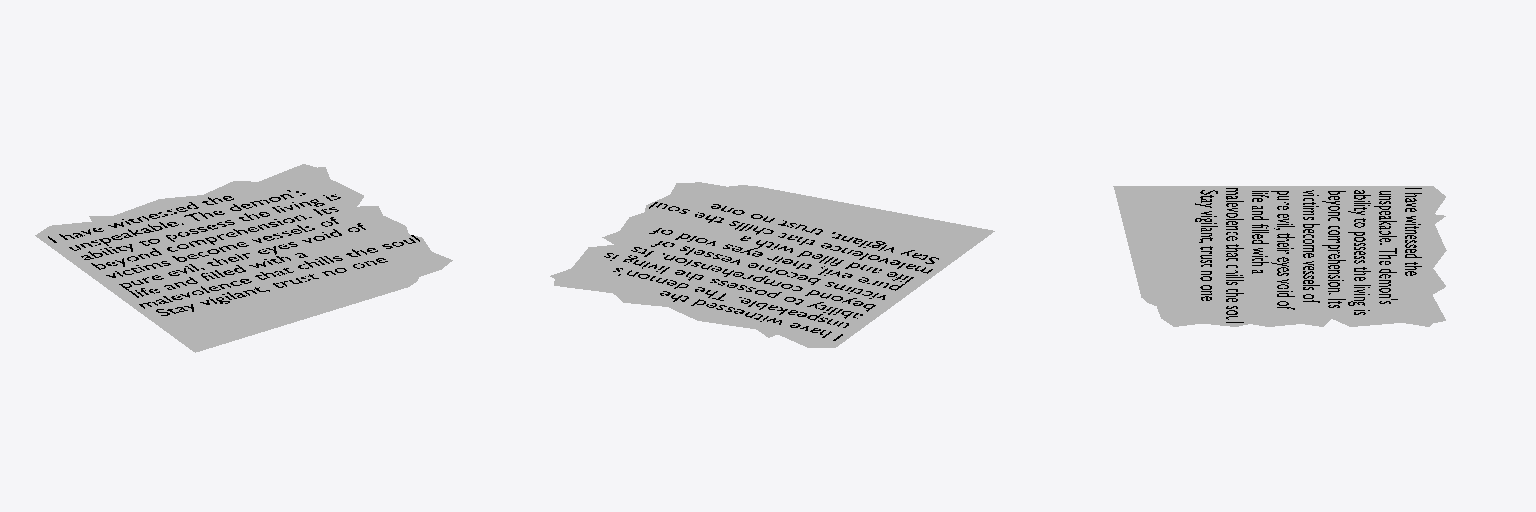
Rendered from Note_3_goed.obj.
3 renders of one model, left to right at view 1: azimuth 30°, elevation 25°; view 2: azimuth 150°, elevation 25°; view 3: azimuth 270°, elevation 25°, orthographic.
Visible parts, largest first — view 1: Plane.002, Text.002; view 2: Plane.002, Text.002; view 3: Plane.002, Text.002.
Boxes of the visible parts, x1=… form: Plane.002: x1=35, y1=164, x2=452, y2=352; Text.002: x1=48, y1=190, x2=419, y2=315; Plane.002: x1=550, y1=182, x2=994, y2=347; Text.002: x1=604, y1=202, x2=938, y2=340; Plane.002: x1=1113, y1=186, x2=1446, y2=326; Text.002: x1=1195, y1=188, x2=1421, y2=322.
Bounding box in the file's own units: 2 × 0.01 × 2.